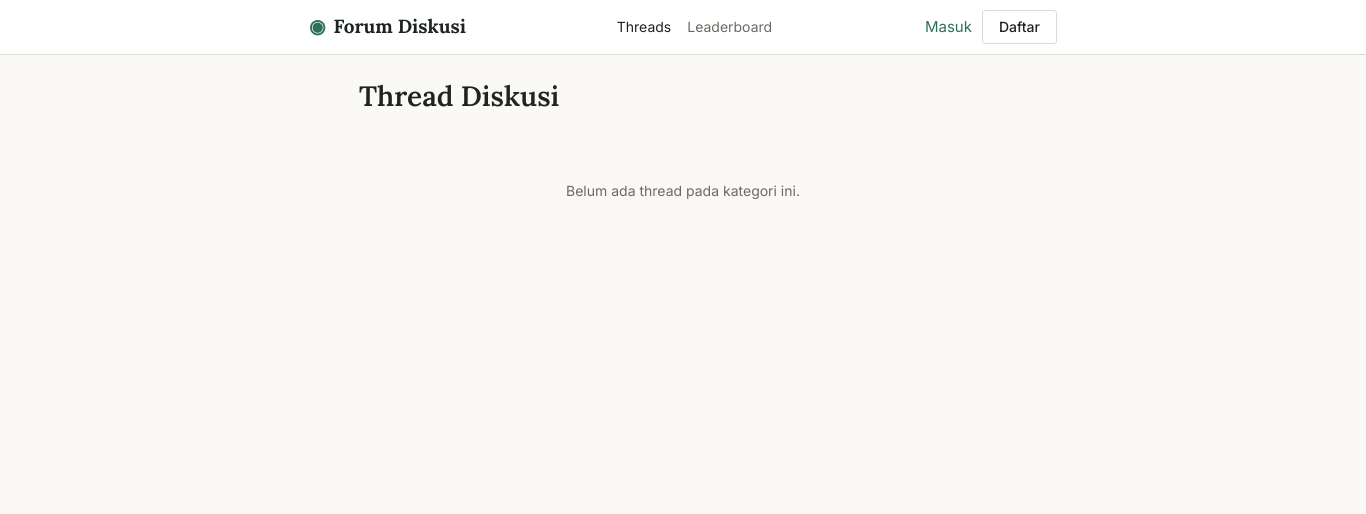
Test case: Login Aplikasi Forum Diskusi › menampilkan alert saat password tidak diisi
The image size is (1366, 514).
Click the link "Masuk" at (949, 27), box [923,11,974,42]
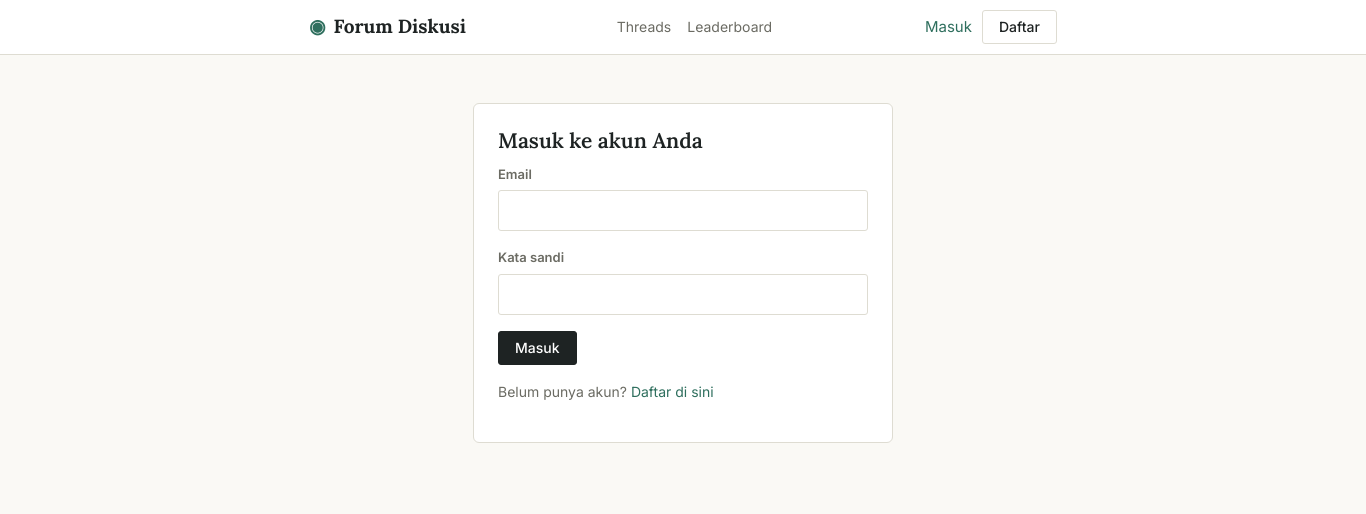
Type "dimas@mail.com" into the field named "email" at (683, 211), box [498,190,868,231]
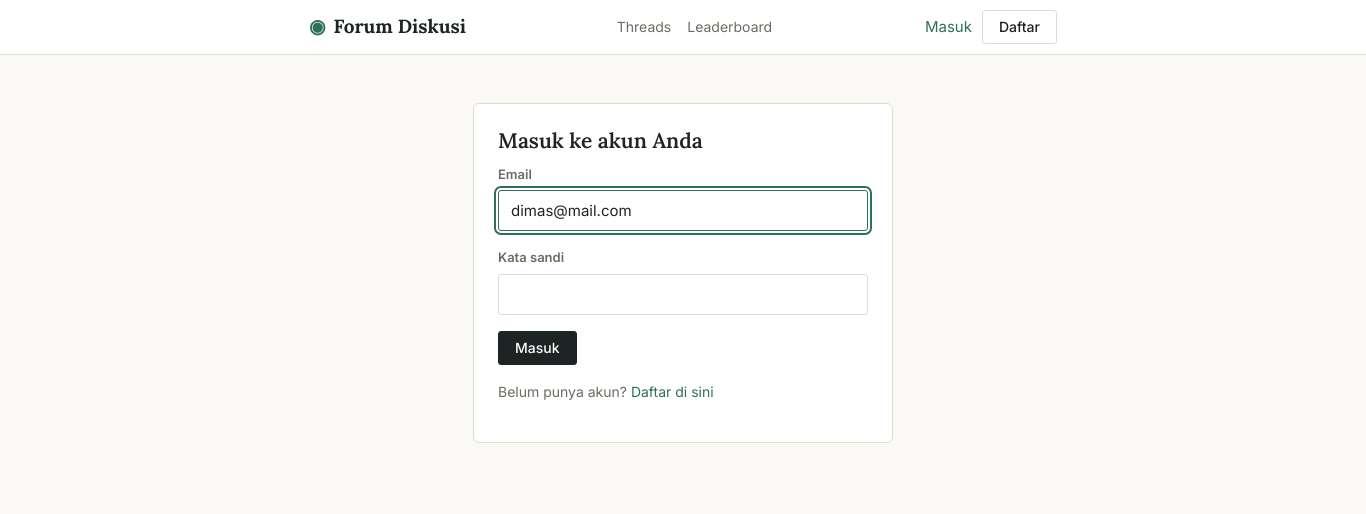
Click the button "Masuk" at (538, 348), box [498,331,577,365]
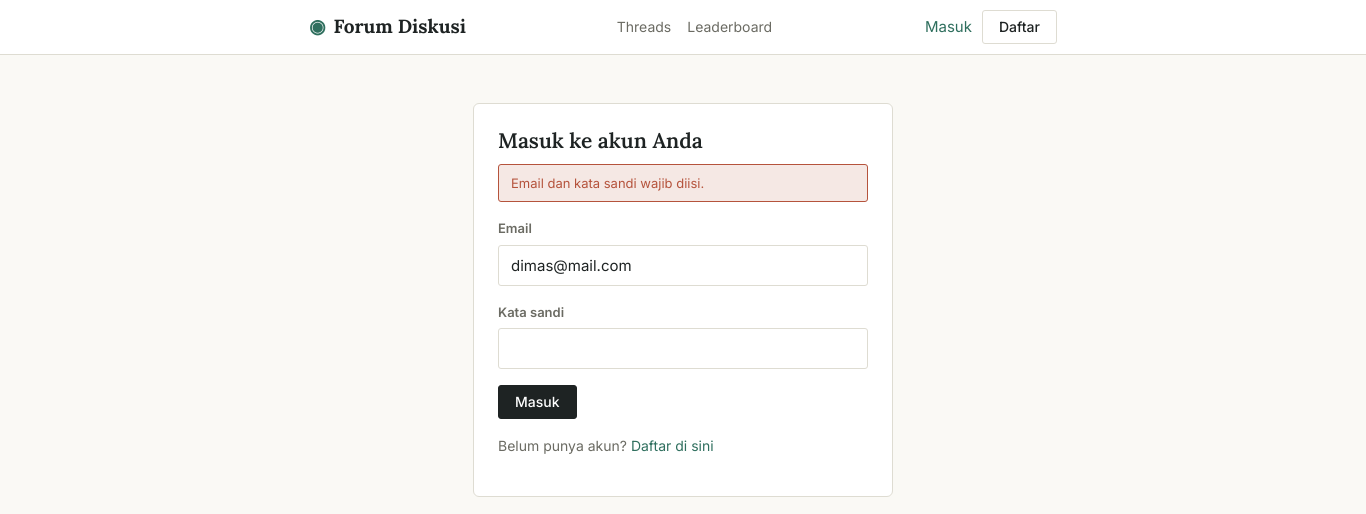
Now the text "Email dan kata sandi wajib diisi." is shown, box [498,164,868,202]
